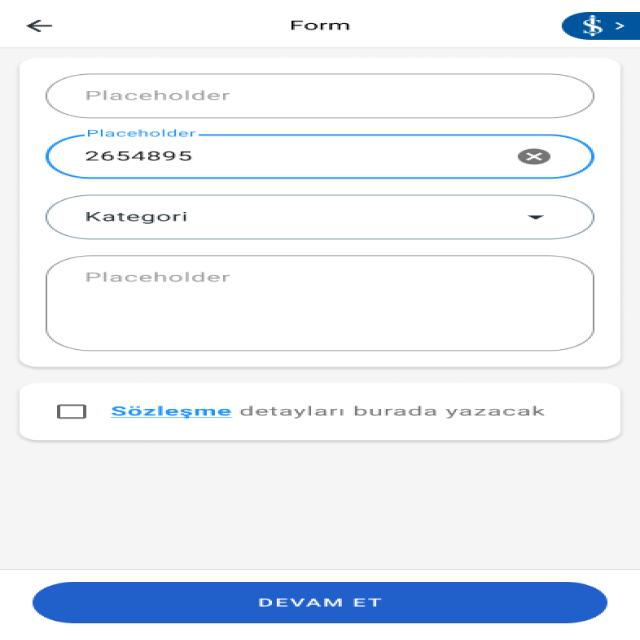QLabel: (238, 407, 549, 418), (101, 404, 233, 420), (253, 596, 383, 611), (281, 18, 357, 35)
VAppBar: (0, 0, 640, 49)
VBtn: (31, 581, 606, 624)
VCard: (18, 58, 622, 368), (19, 381, 621, 441)
VCheckbox: (51, 402, 90, 421)
VCombobox: (45, 194, 594, 241)
VFooter: (0, 569, 640, 640)
VIcon: (24, 19, 55, 33)
VImg: (560, 12, 640, 40)
VTextField: (45, 127, 595, 181), (46, 72, 595, 120)
VTextarea: (46, 254, 596, 352)
